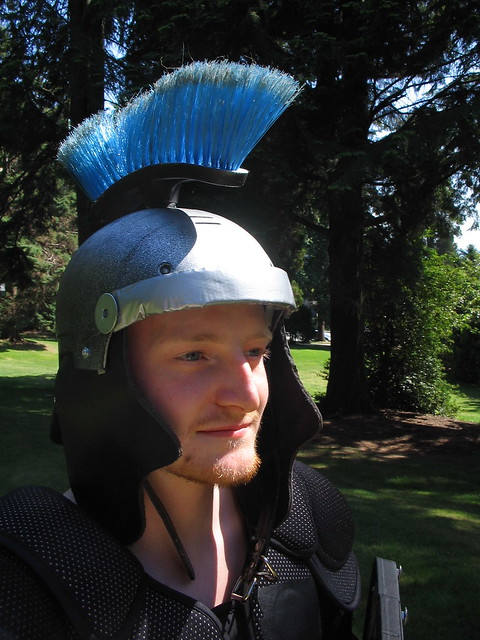helmet: (25, 177, 316, 380)
